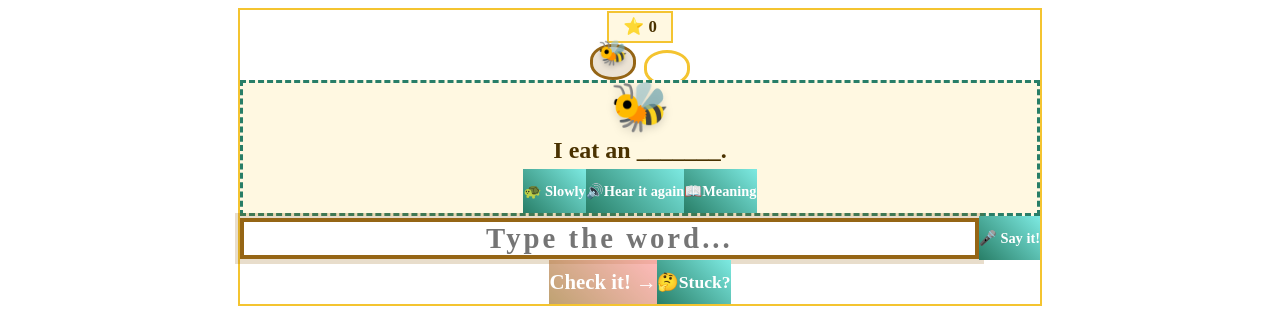
it: SpellMode Component › pays a real star per word spelled, and no pretend score or accuracy
The width and height of the screenshot is (1280, 323).
Type "apple" into the field with placeholder "Type the word...". click: (609, 238)
box: [240,218,979,259]
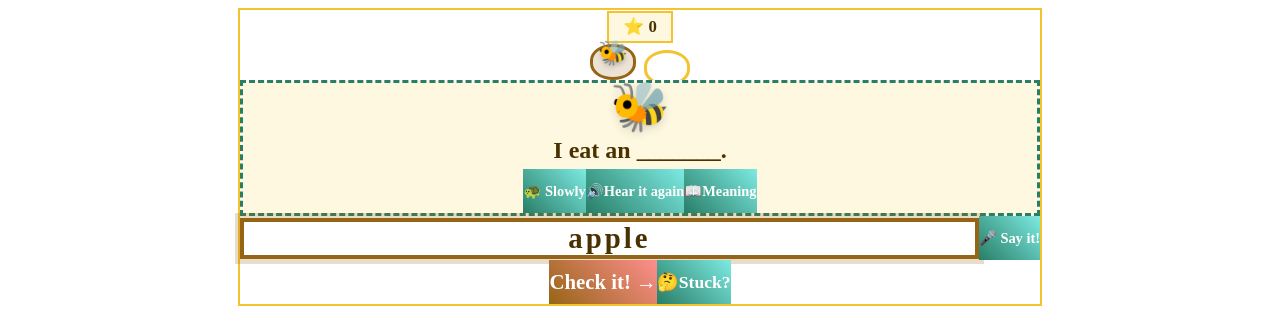
Click the button "Check it! →". click: click(603, 282)
box: [549,260,657,304]
Wait 1600 ms
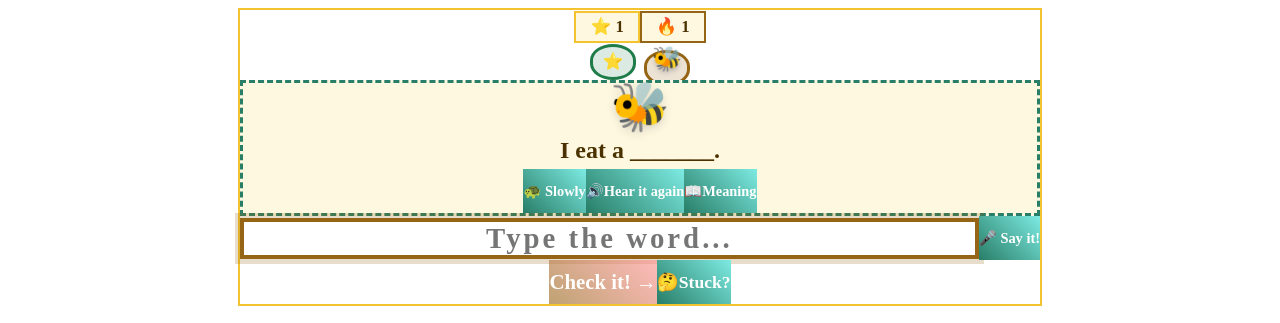
Type "banana" into the field with placeholder "Type the word...". click: (609, 238)
box: [240,218,979,259]
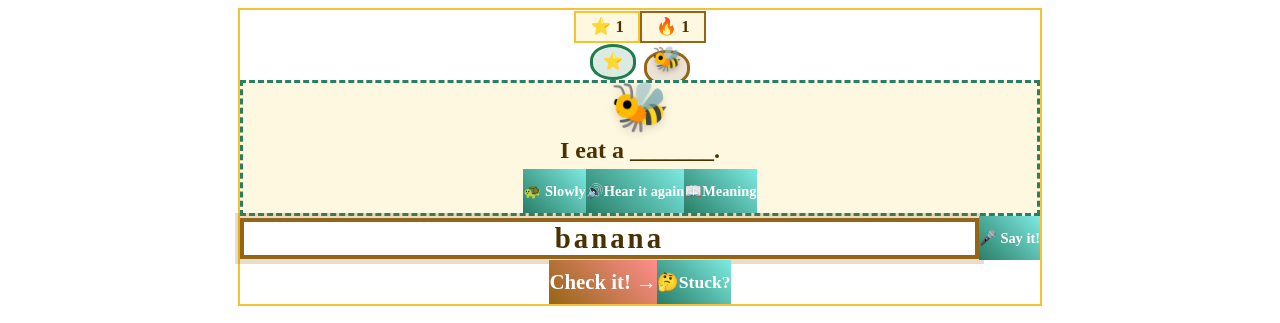
Click the button "Check it! →". click: click(603, 282)
box: [549,260,657,304]
Wait 1600 ms
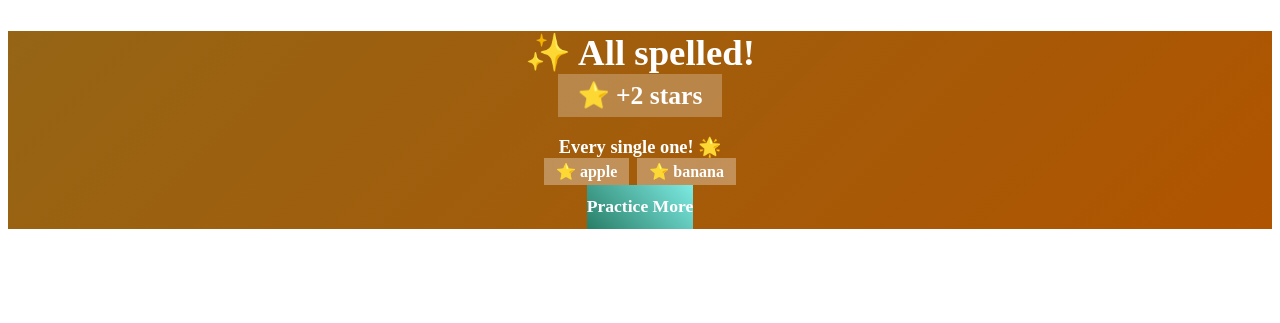
Now the text "⭐ +2 stars" is shown, box [558,74,722,117]
